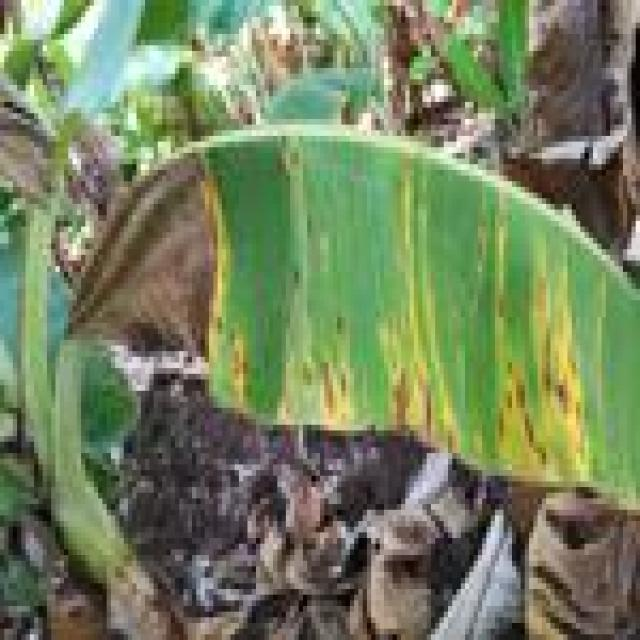Early_rust: (130, 111, 628, 505)
